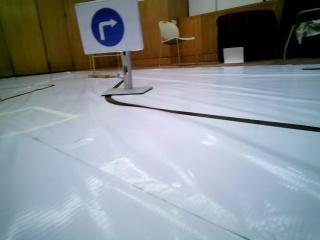right: (79, 3, 136, 49)
